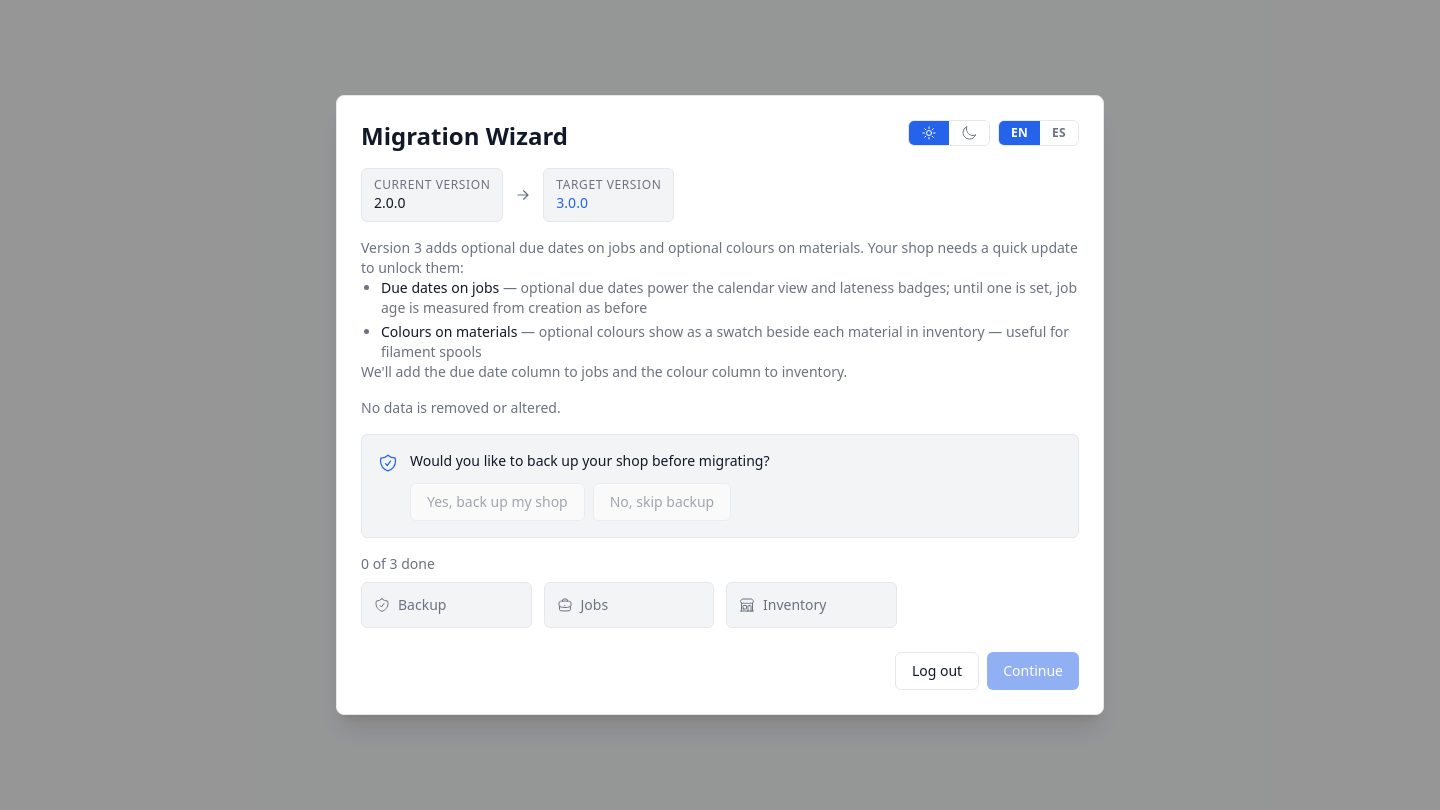
Test case: MigrationWizardModal › restarts the cooldown when the answer changes
This screenshot has width=1440, height=810.
Click the button with test id "wizard-backup-yes". click: (497, 502)
box: [410, 483, 585, 521]
Wait 5000 ms
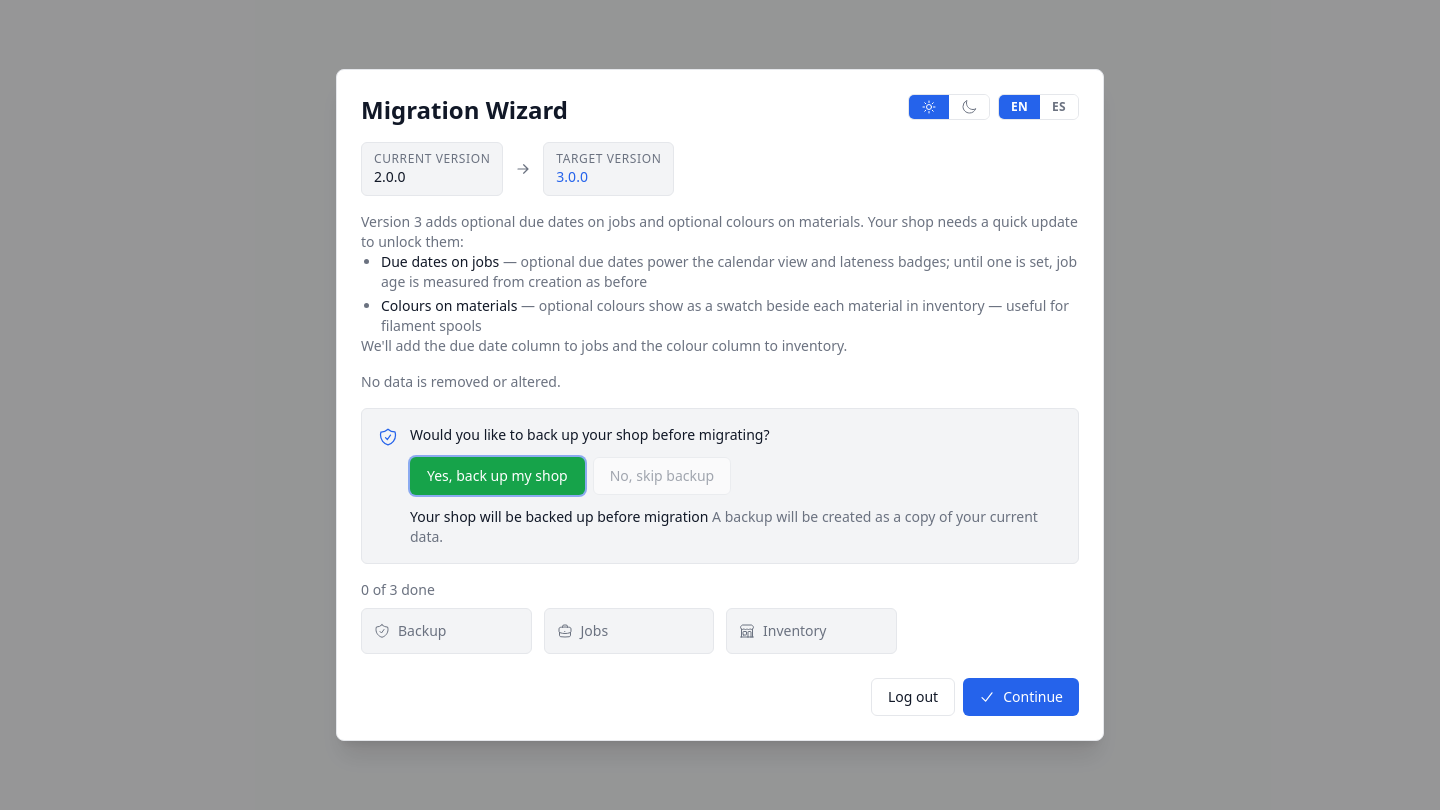
Result: the button with test id "wizard-migration-continue" is enabled at [963, 678, 1079, 716]
Click the button with test id "wizard-backup-no". click: (662, 476)
box: [593, 457, 731, 495]
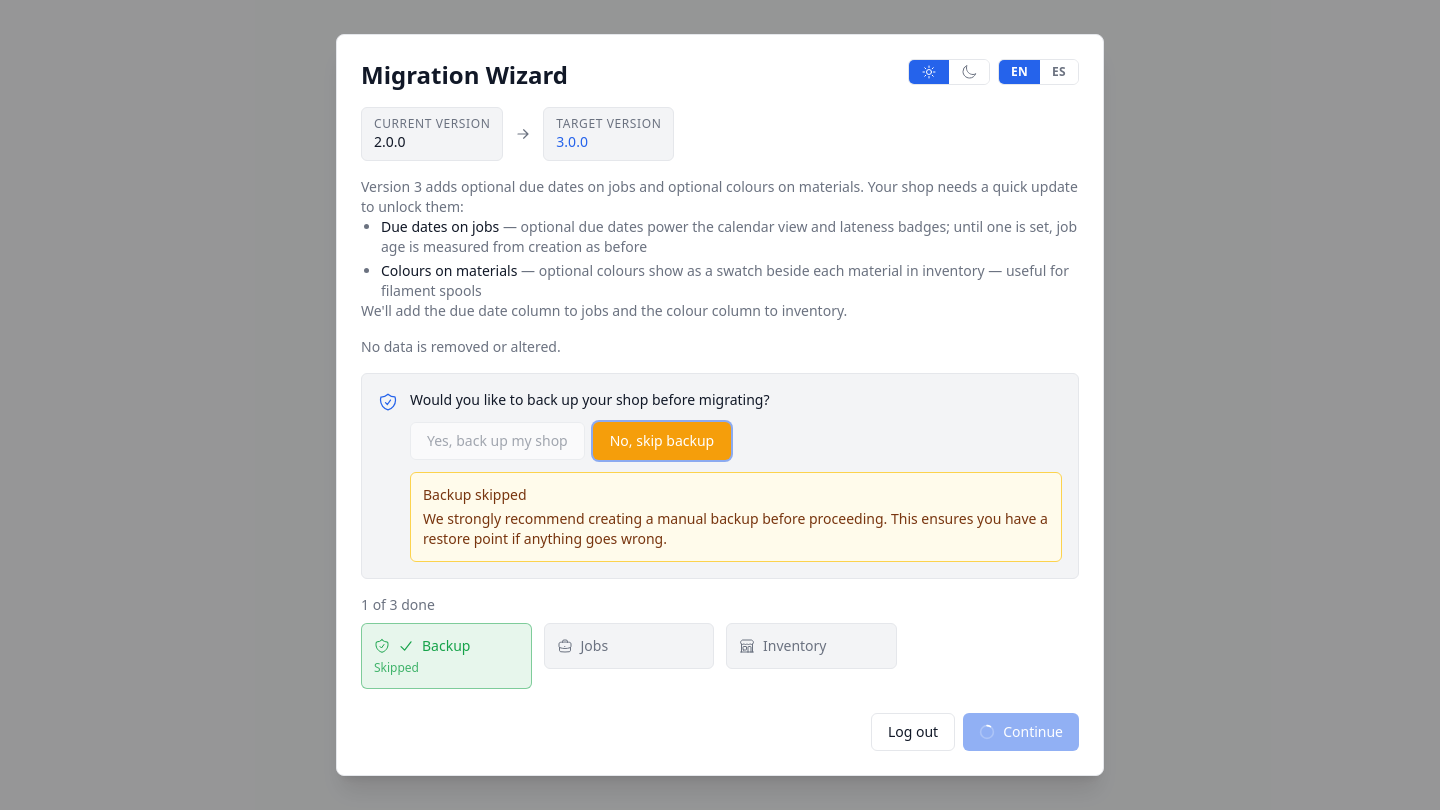
Result: the button with test id "wizard-migration-continue" is disabled at [963, 713, 1079, 751]
Result: the icon with test id "wizard-cooldown-ring" is shown at [979, 724, 995, 740]
